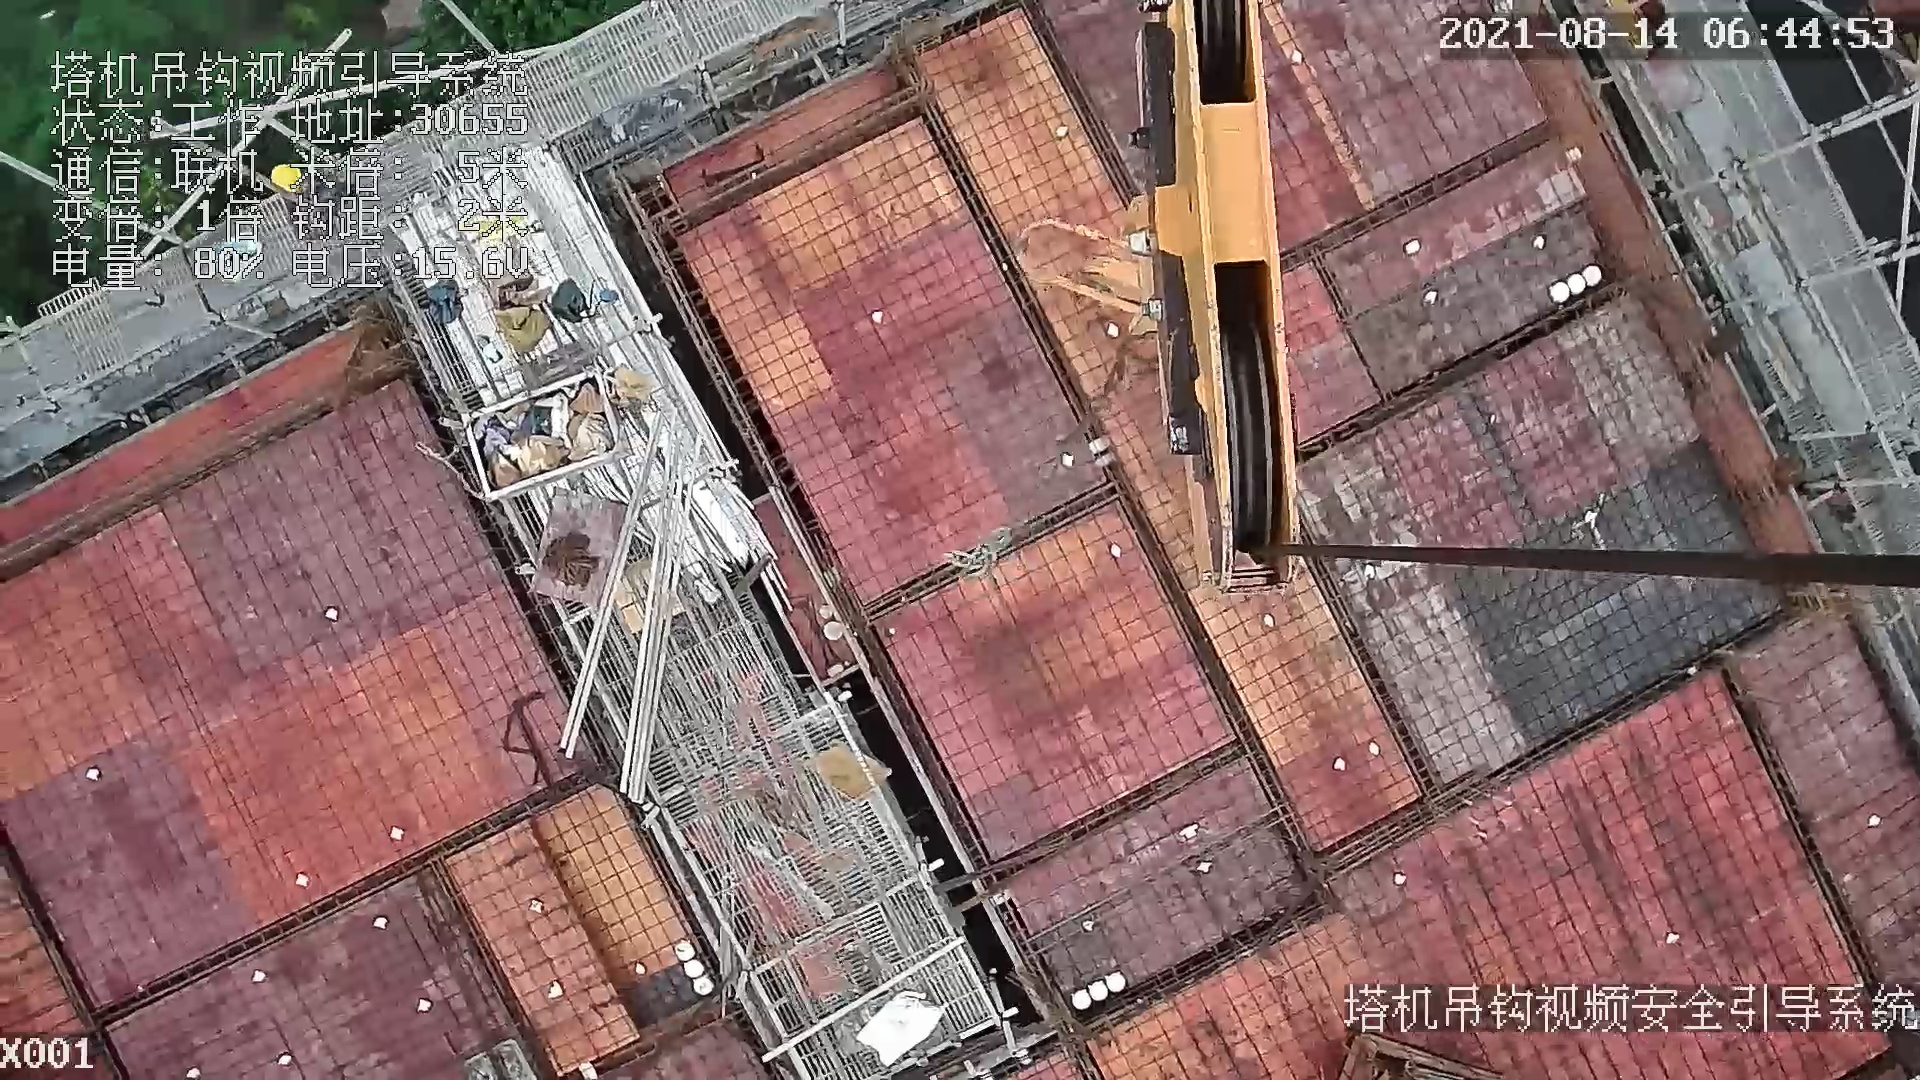hook: (1000, 5, 1317, 597)
